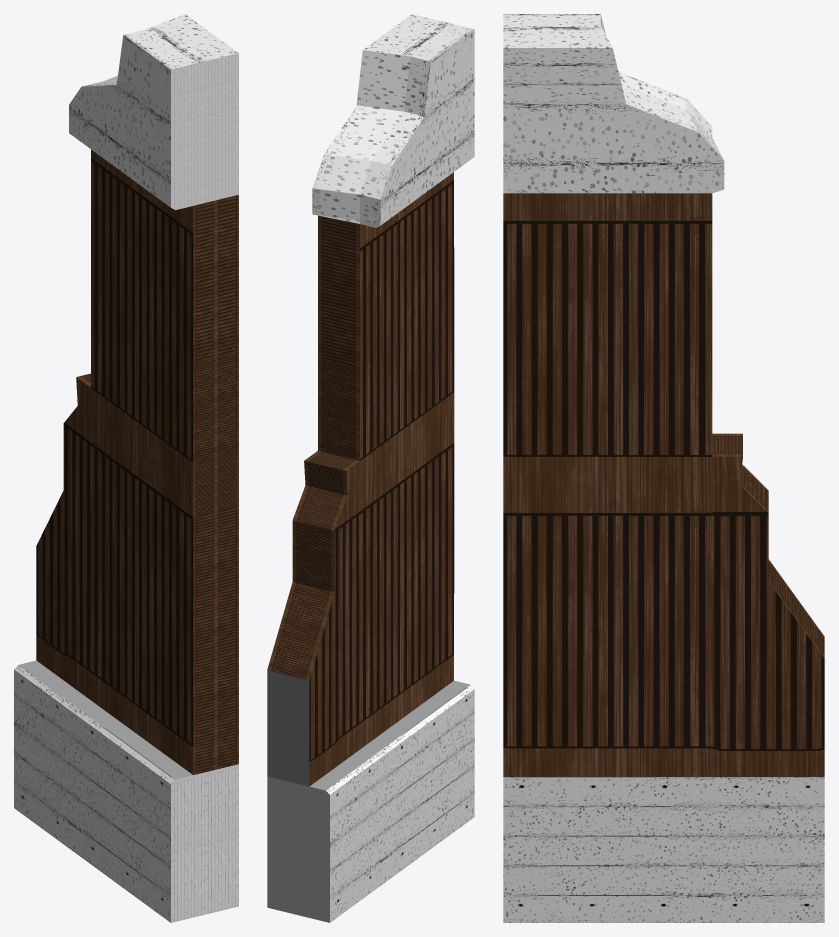
File: Wall_Cardinal_Front_02_transitionfbx.fbx
3 renders of one model, left to right at view 1: azimuth 30°, elevation 25°; view 2: azimuth 150°, elevation 25°; view 3: azimuth 270°, elevation 25°, orthographic. The views are drawn at different scales.
Parts seen in each view (by area): view 1: Wall_Spacer_Cardinal_Front_02_transition; view 2: Wall_Spacer_Cardinal_Front_02_transition; view 3: Wall_Spacer_Cardinal_Front_02_transition.
Boxes of the visible parts, <box> form: Wall_Spacer_Cardinal_Front_02_transition: <box>14,14,238,922</box>; Wall_Spacer_Cardinal_Front_02_transition: <box>267,14,474,922</box>; Wall_Spacer_Cardinal_Front_02_transition: <box>503,14,824,922</box>.
Bounding box in the file's own units: 0.25 × 3 × 1.
